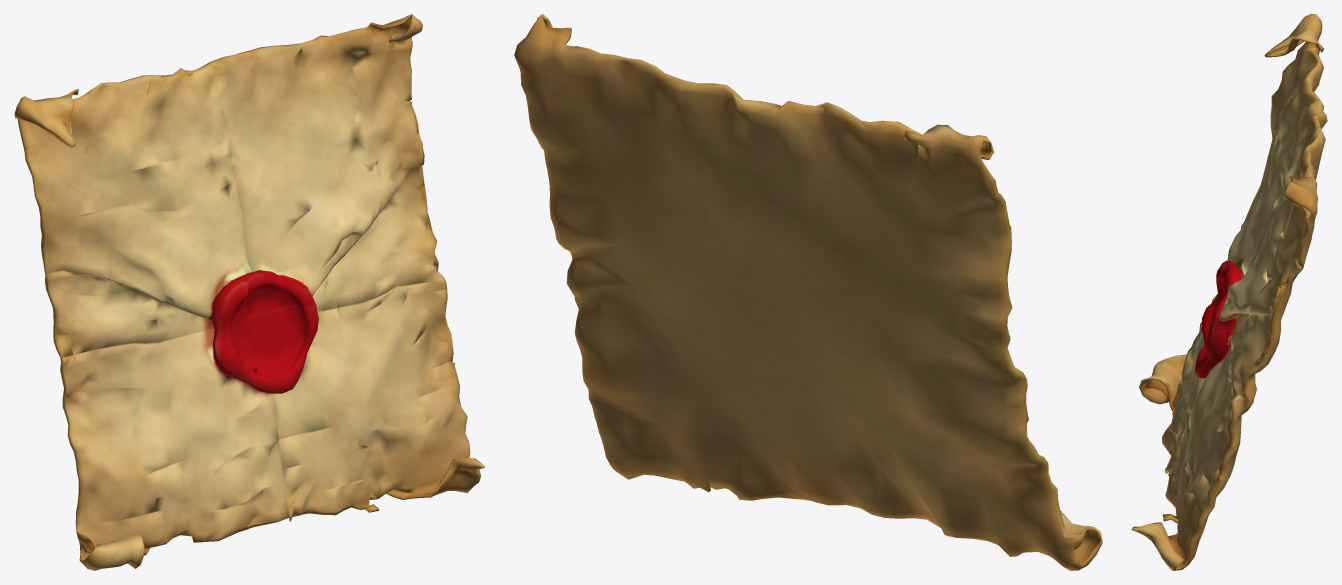
File: letter.glb
3 views of the same model, side by side, from view 1: azimuth 30°, elevation 25°; view 2: azimuth 150°, elevation 25°; view 3: azimuth 270°, elevation 25° (orthographic). The views are drawn at different scales.
Parts seen in each view (by area): view 1: tripo_node_89754596-3ec0-4873-9934-83522b8e055c; view 2: tripo_node_89754596-3ec0-4873-9934-83522b8e055c; view 3: tripo_node_89754596-3ec0-4873-9934-83522b8e055c.
Part boxes in pixels (box(x1,y1,x2,y2)): tripo_node_89754596-3ec0-4873-9934-83522b8e055c: box(14, 14, 485, 570); tripo_node_89754596-3ec0-4873-9934-83522b8e055c: box(514, 14, 1102, 570); tripo_node_89754596-3ec0-4873-9934-83522b8e055c: box(1131, 14, 1327, 570).
Bounding box in the file's own units: 0.9739 × 0.9778 × 0.442.
1 material, 1 textured.
